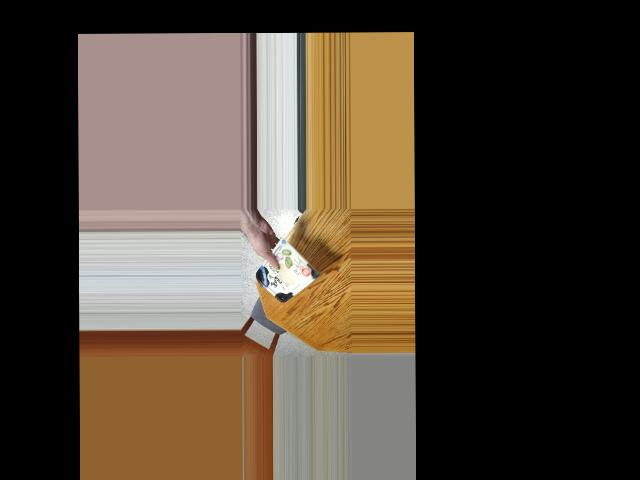cheese: (255, 249, 311, 297)
